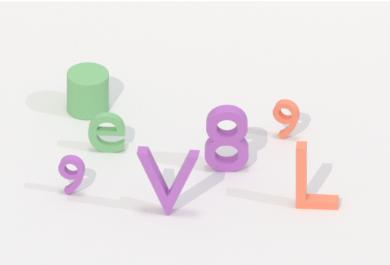0-KhoiTru: (62, 60, 114, 122)
8: (203, 102, 253, 174)
9: (55, 152, 88, 197), (269, 96, 301, 139)
L: (291, 139, 342, 214)
V: (134, 142, 203, 218)
e: (86, 109, 130, 155)
